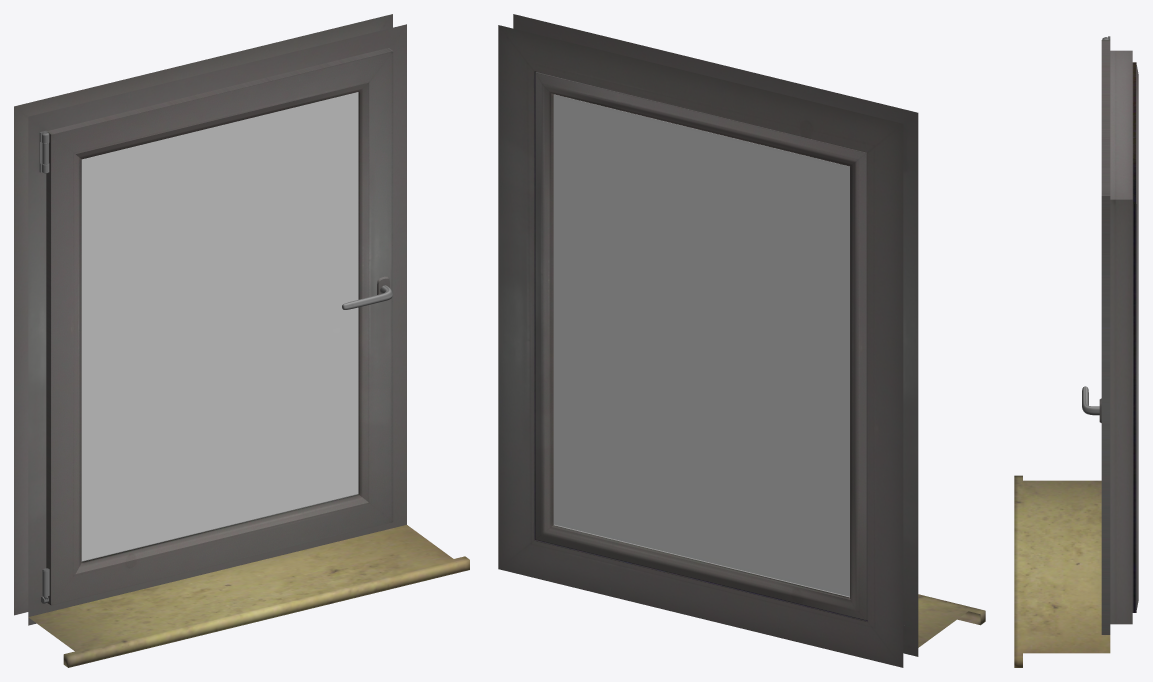
The model's file is outer-metal-window.glb.
The picture shows the model from 3 angles, left to right: view 1: azimuth 30°, elevation 25°; view 2: azimuth 150°, elevation 25°; view 3: azimuth 270°, elevation 25°; orthographic projection. The views are drawn at different scales.
Parts seen in each view (by area): view 1: Plane.002, Plane.001, Plane; view 2: Plane.002, Plane.001, Plane; view 3: Plane.001, Plane, Plane.003_Plane.012.
Boxes of the visible parts, x1,y1,x2,y2 form: Plane.002: (81, 92, 358, 561); Plane.001: (14, 14, 469, 667); Plane: (42, 48, 393, 605); Plane.002: (553, 94, 849, 597); Plane.001: (498, 14, 985, 667); Plane: (535, 72, 867, 620); Plane.001: (1014, 36, 1136, 667); Plane: (1099, 40, 1138, 634); Plane.003_Plane.012: (1082, 386, 1099, 415).
Bounding box in the file's own units: 0.9907 × 1.2 × 0.285.
Materials: 4 (4 with a texture image).
